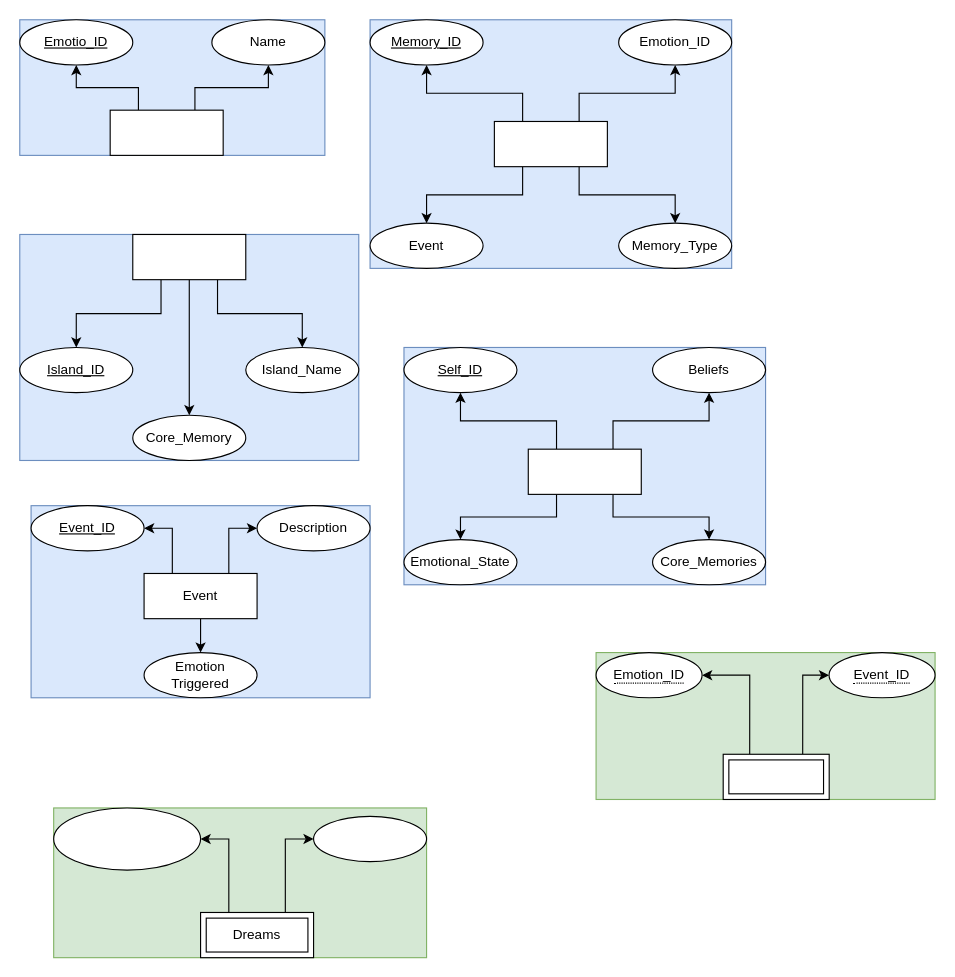
Image size: 955x977. Some labels were removed from this diagram. Each missing label, with the centre of its shape:
Dream_Description: pixel 369 838
Emotion: pixel 166 132
Memory: pixel 550 143
Memory_Associated: pixel 127 838
Personality Island: pixel 189 256
Sense of Self: pixel 584 471
Thoughts: pixel 775 776
